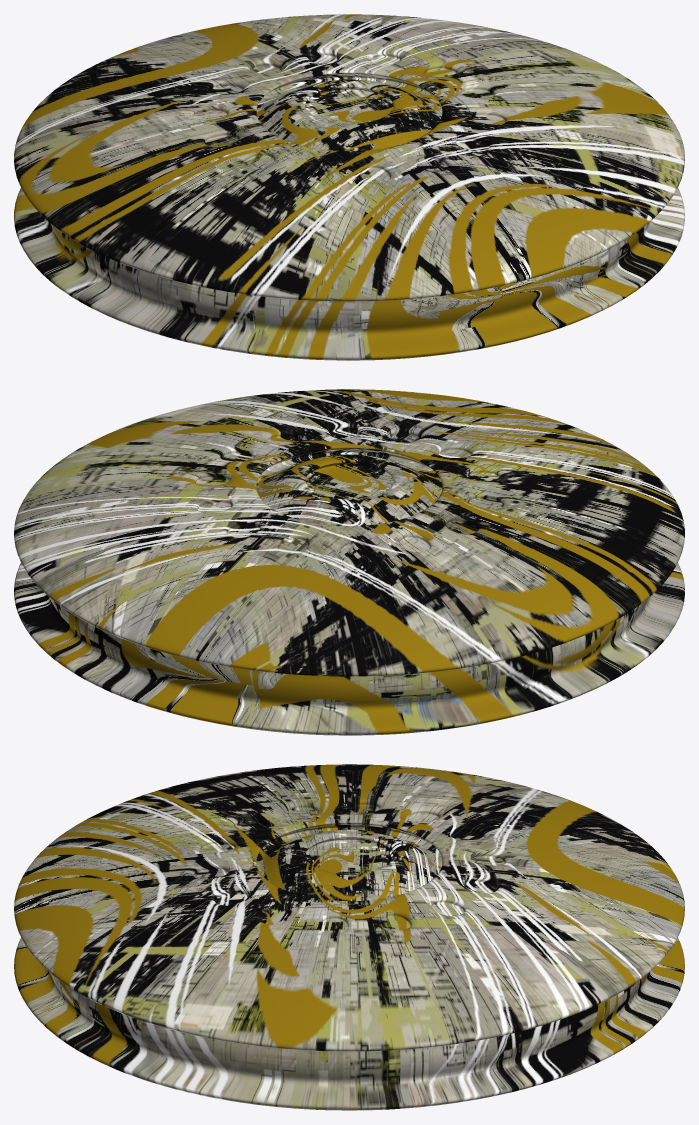
The model's file is UFO9.fbx.
3 views of the same model, one above another, from view 1: azimuth 30°, elevation 25°; view 2: azimuth 150°, elevation 25°; view 3: azimuth 270°, elevation 25° (orthographic).
Visible parts, largest first — view 1: UFO9_001; view 2: UFO9_001; view 3: UFO9_001.
Boxes of the visible parts, bbox=[...] form: UFO9_001: bbox=[14, 14, 684, 360]; UFO9_001: bbox=[14, 389, 684, 735]; UFO9_001: bbox=[14, 764, 684, 1110].
Bounding box in the file's own units: 1.47 × 0.3945 × 1.47.
